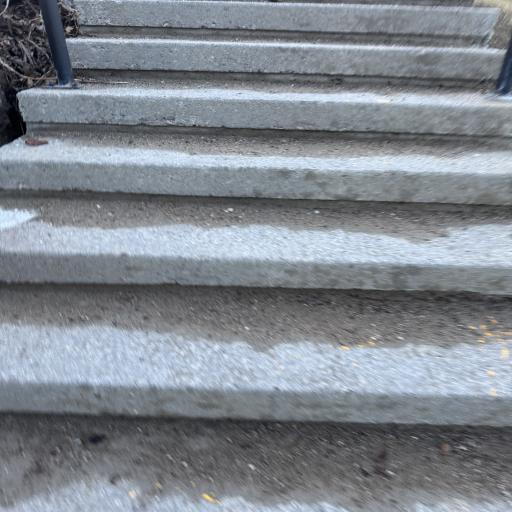Stairs: (0, 0, 512, 426)
